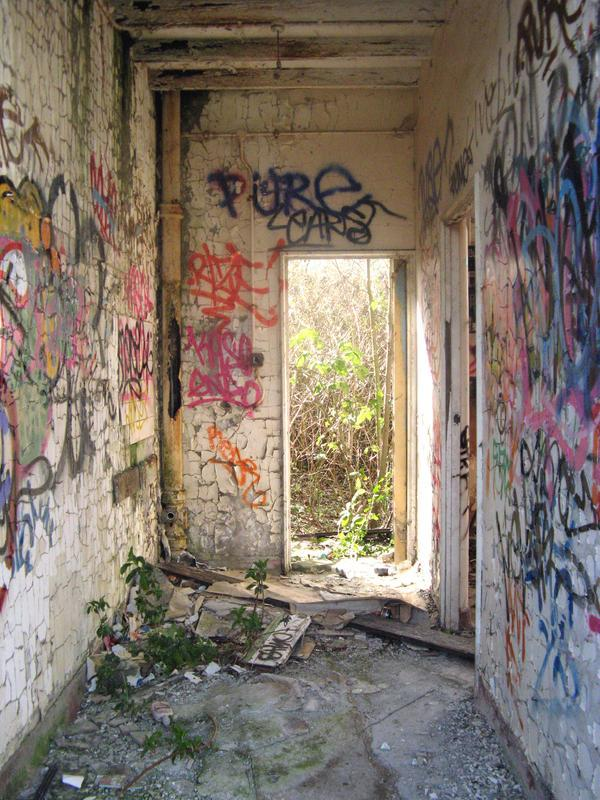graffiti: (478, 48, 599, 736), (0, 173, 152, 571), (185, 240, 282, 511), (207, 163, 405, 246), (0, 84, 69, 199), (515, 0, 599, 66), (419, 117, 472, 207), (89, 154, 120, 252)
trash: (262, 576, 473, 661), (155, 561, 254, 623), (231, 630, 313, 669)
